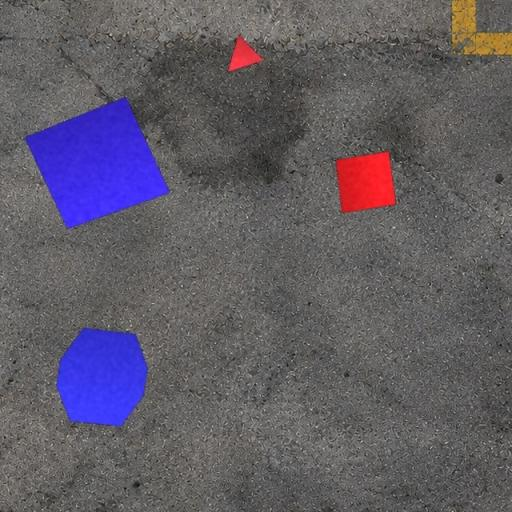BLUE_SQUARE: (24, 96, 170, 230)
RED_SQUARE: (335, 150, 397, 214)
